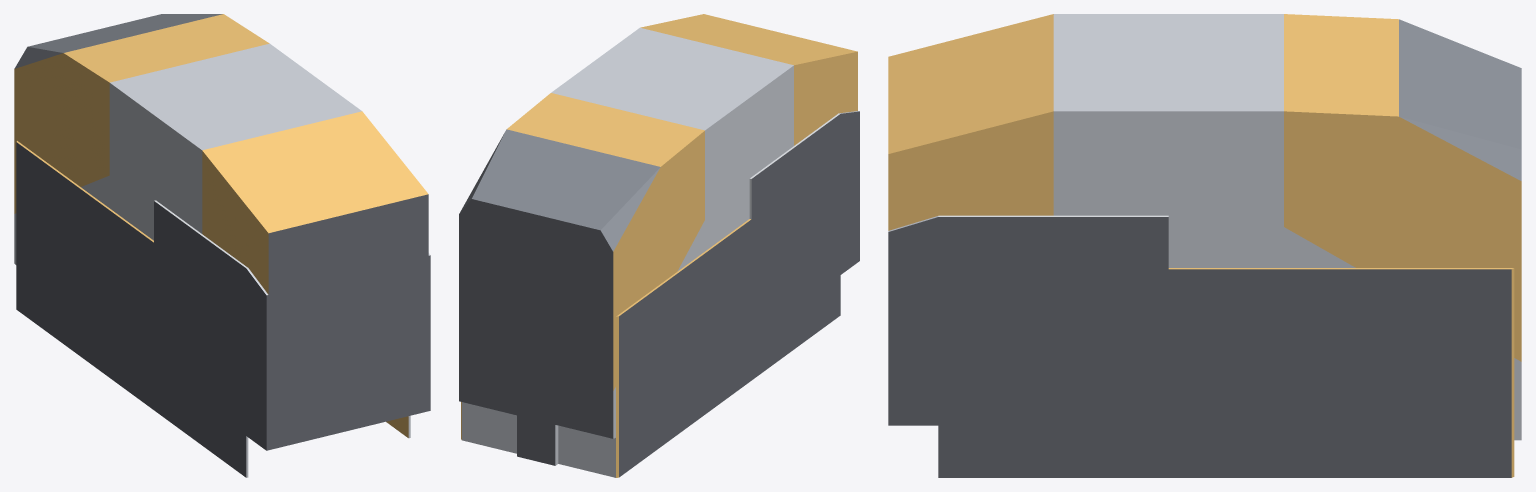
File: fuselage.glb
3 views of the same model, side by side, from view 1: azimuth 30°, elevation 25°; view 2: azimuth 150°, elevation 25°; view 3: azimuth 270°, elevation 25° (orthographic). The views are drawn at different scales.
Size of the model in its own units: 0.82 by 1.4 by 2.2.
